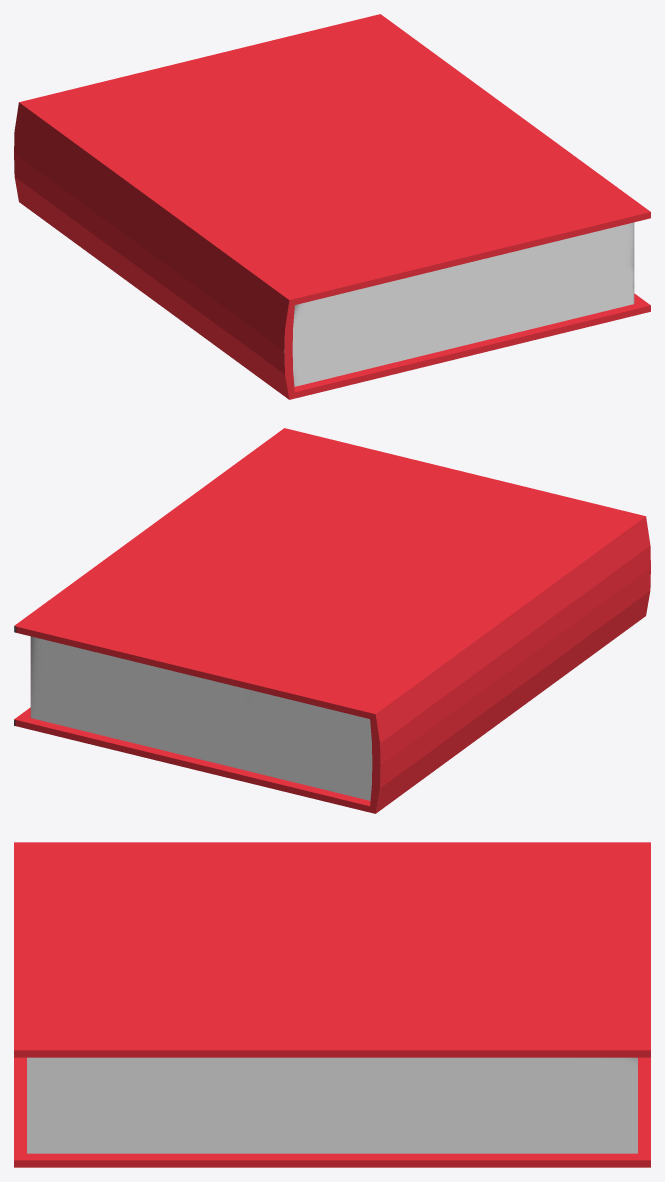
File: book.obj
3 renders of one model, top to bottom at view 1: azimuth 30°, elevation 25°; view 2: azimuth 150°, elevation 25°; view 3: azimuth 270°, elevation 25°, orthographic. The views are drawn at different scales.
Parts seen in each view (by area): view 1: Cube.002_Cube.003; view 2: Cube.002_Cube.003; view 3: Cube.002_Cube.003.
Part boxes in pixels (x1=…): Cube.002_Cube.003: x1=14, y1=14, x2=650, y2=399; Cube.002_Cube.003: x1=14, y1=428, x2=650, y2=813; Cube.002_Cube.003: x1=14, y1=842, x2=650, y2=1167.
Size of the model in its own units: 1.57 by 0.4089 by 2.01.
1 material, 1 textured.
